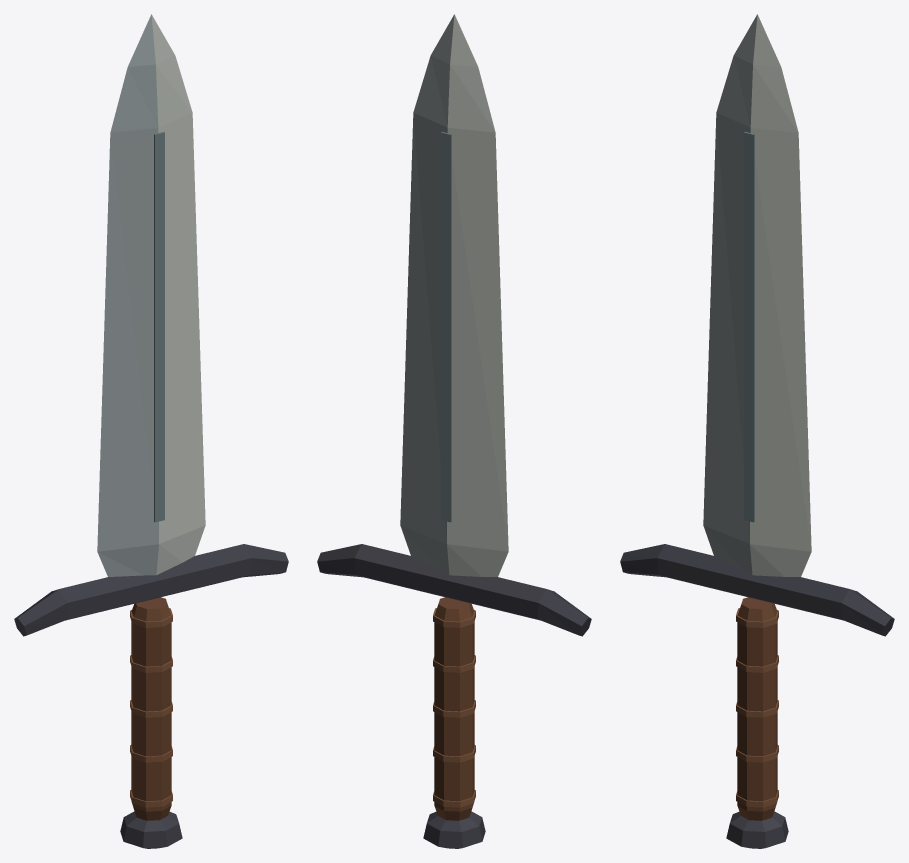
File: weapon_sword_greatsword.glb
3 renders of one model, left to right at view 1: azimuth 30°, elevation 25°; view 2: azimuth 150°, elevation 25°; view 3: azimuth 330°, elevation 25°, orthographic.
Parts seen in each view (by area): view 1: weapon_sword_greatsword; view 2: weapon_sword_greatsword; view 3: weapon_sword_greatsword.
Boxes of the visible parts, x1,y1,x2,y2 form: weapon_sword_greatsword: (14, 14, 288, 848); weapon_sword_greatsword: (317, 14, 591, 848); weapon_sword_greatsword: (620, 14, 894, 848).
Bounding box in the file's own units: 0.5926 × 1.76 × 0.124.
